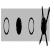correct: (16, 16, 22, 36)
not correct: (39, 5, 50, 48)
